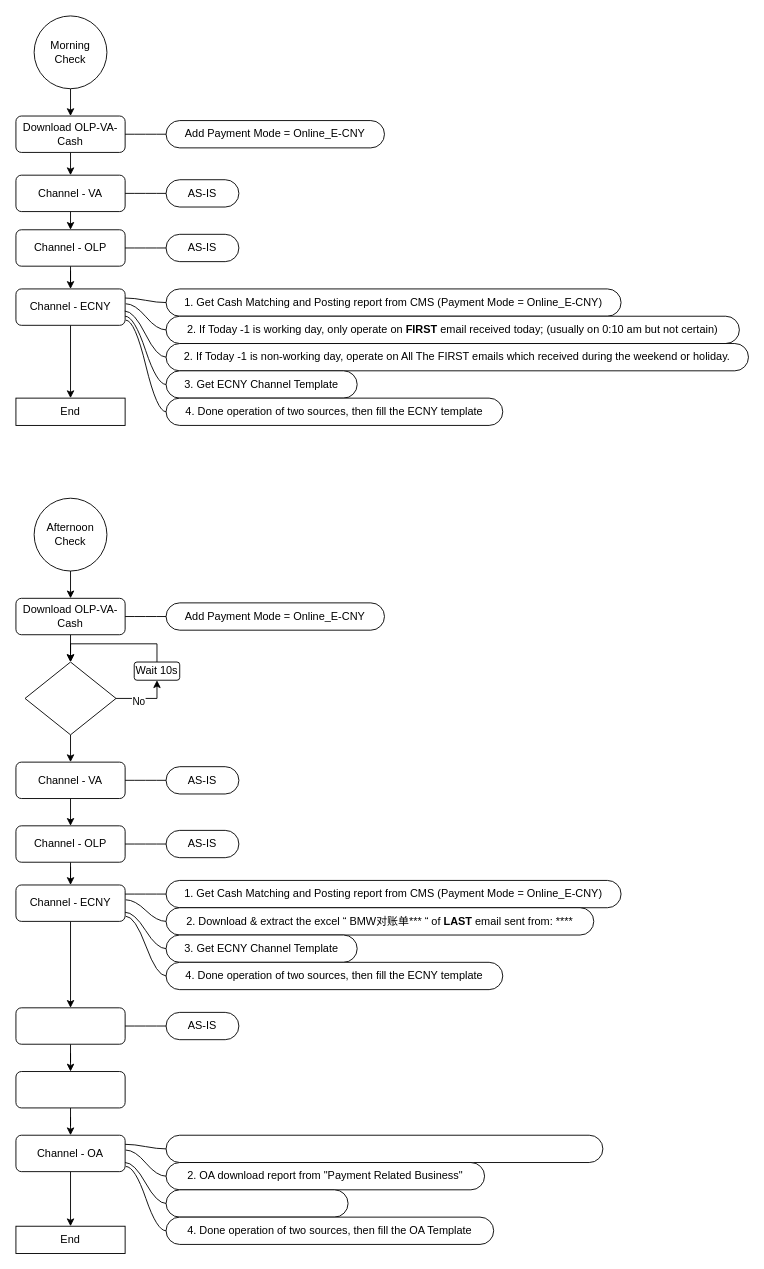
Image size: 764x1269. Some labels were removed from this diagram. Each missing label, with the box of its shape:
1. Get Cash Matching and Posting report from CMS (Payment Mode = GA_Cash): (165, 1134, 603, 1163)
3. Get OA Channel Template: (165, 1189, 348, 1217)
Channel - ICBC: (15, 1071, 125, 1108)
Download GA-Cash: (15, 1007, 125, 1044)
Now > Target_Time: (24, 661, 116, 735)
